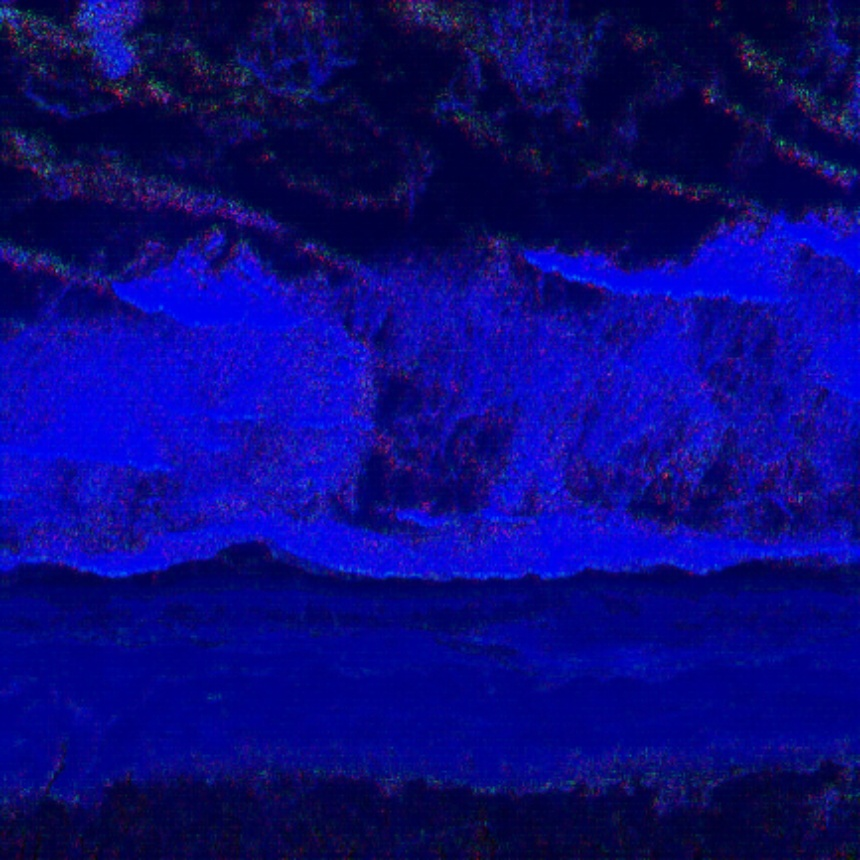rip_current: (302, 144, 546, 563)
